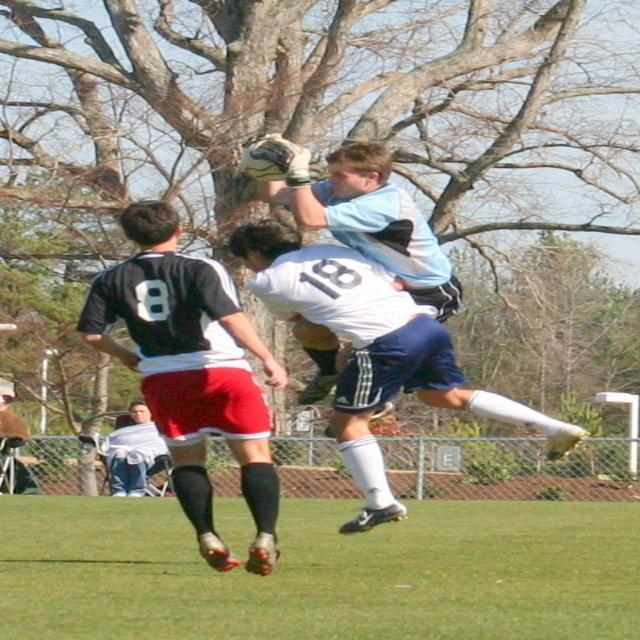football: (228, 125, 316, 201)
